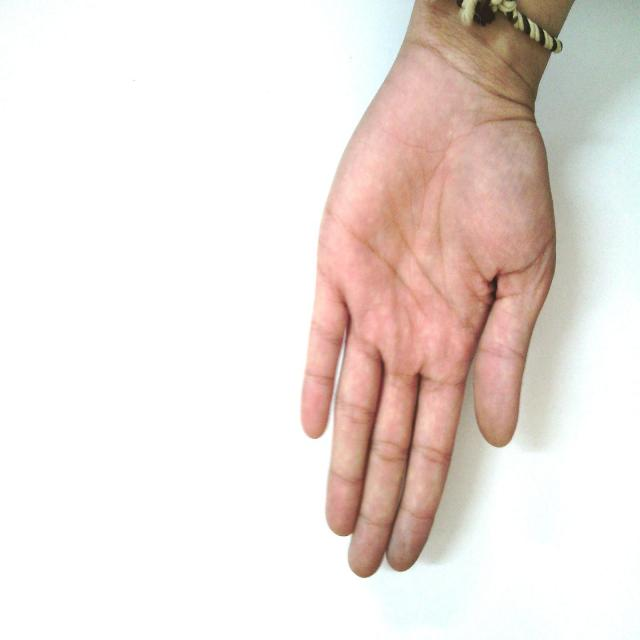others: (224, 1, 636, 588)
